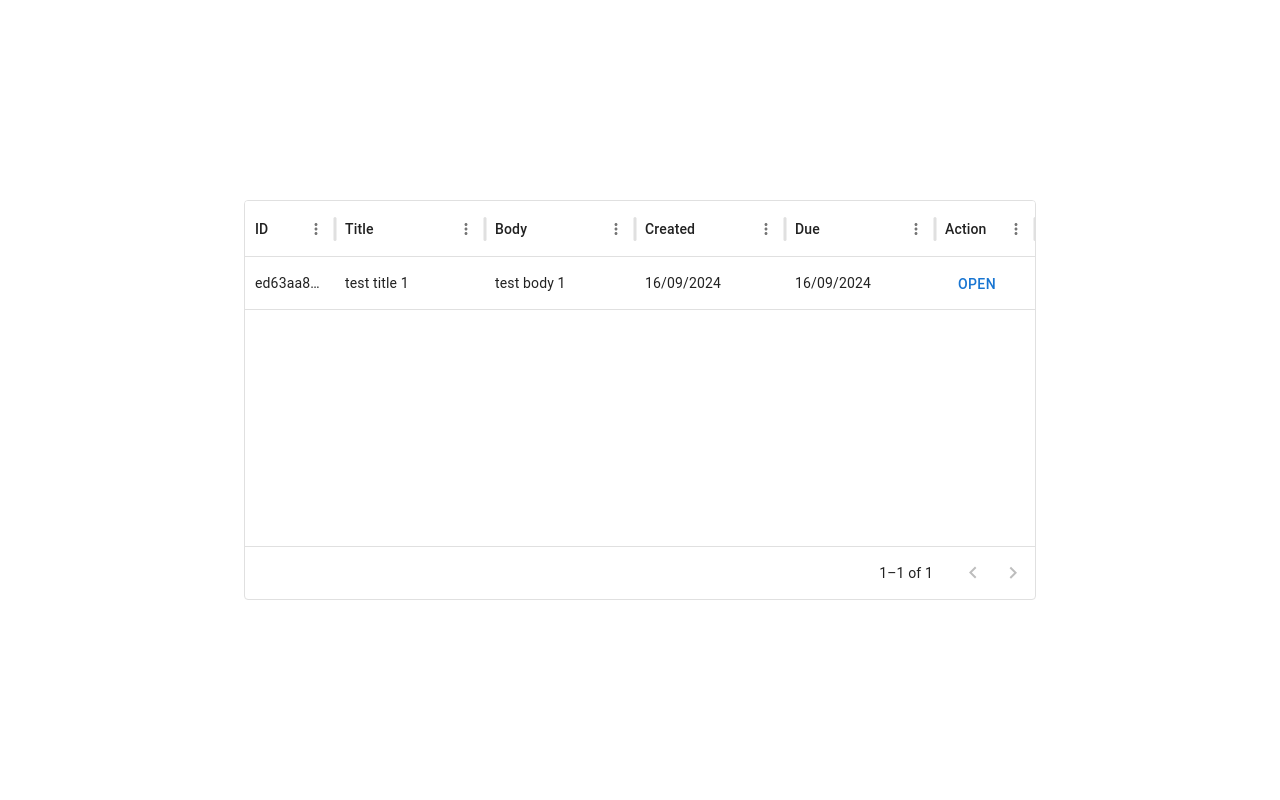
TasksTable › Task editor › opens the task editor on clicking a task's 'open' button
# -------------------- Act -------------------- N/A
Click the button "Open" at {"x": 977, "y": 284}, box [945,266,1009,302]
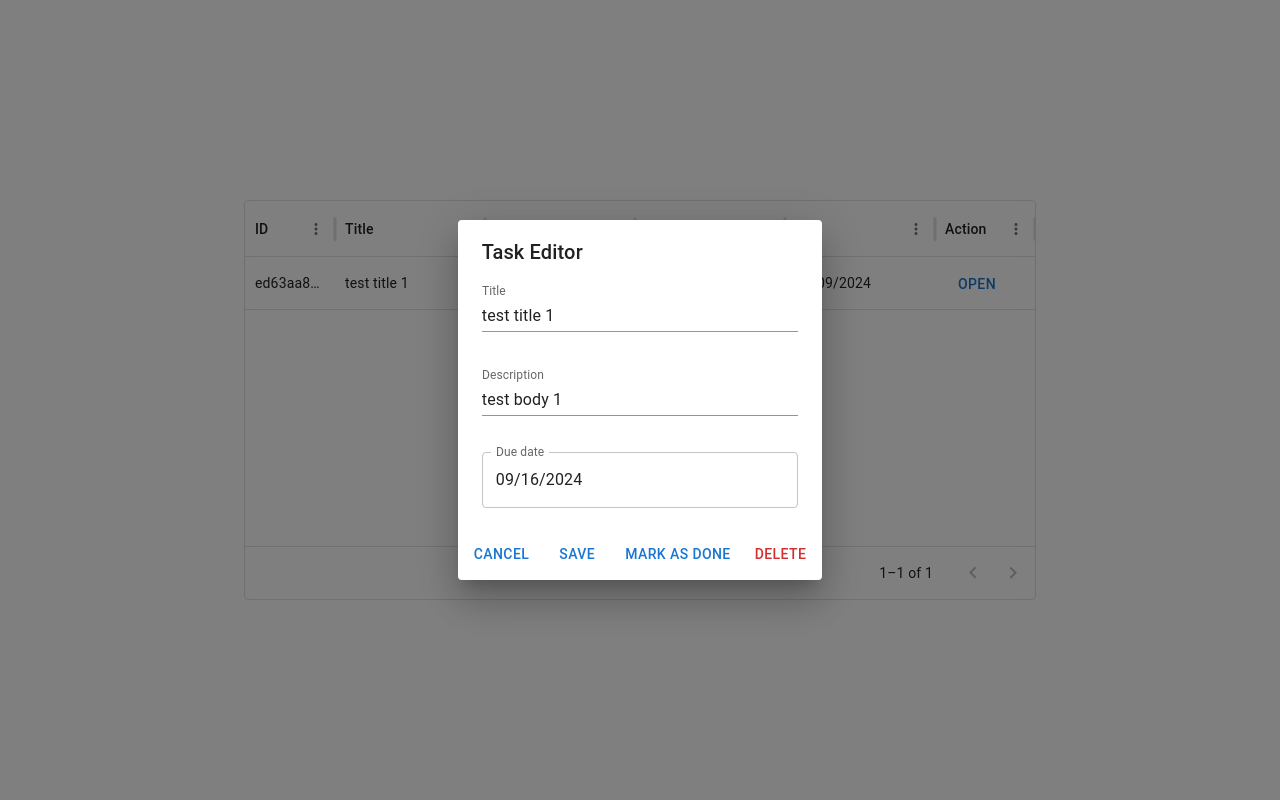
Expected: the dialog "Task Editor" is shown, [458,220,822,580]
